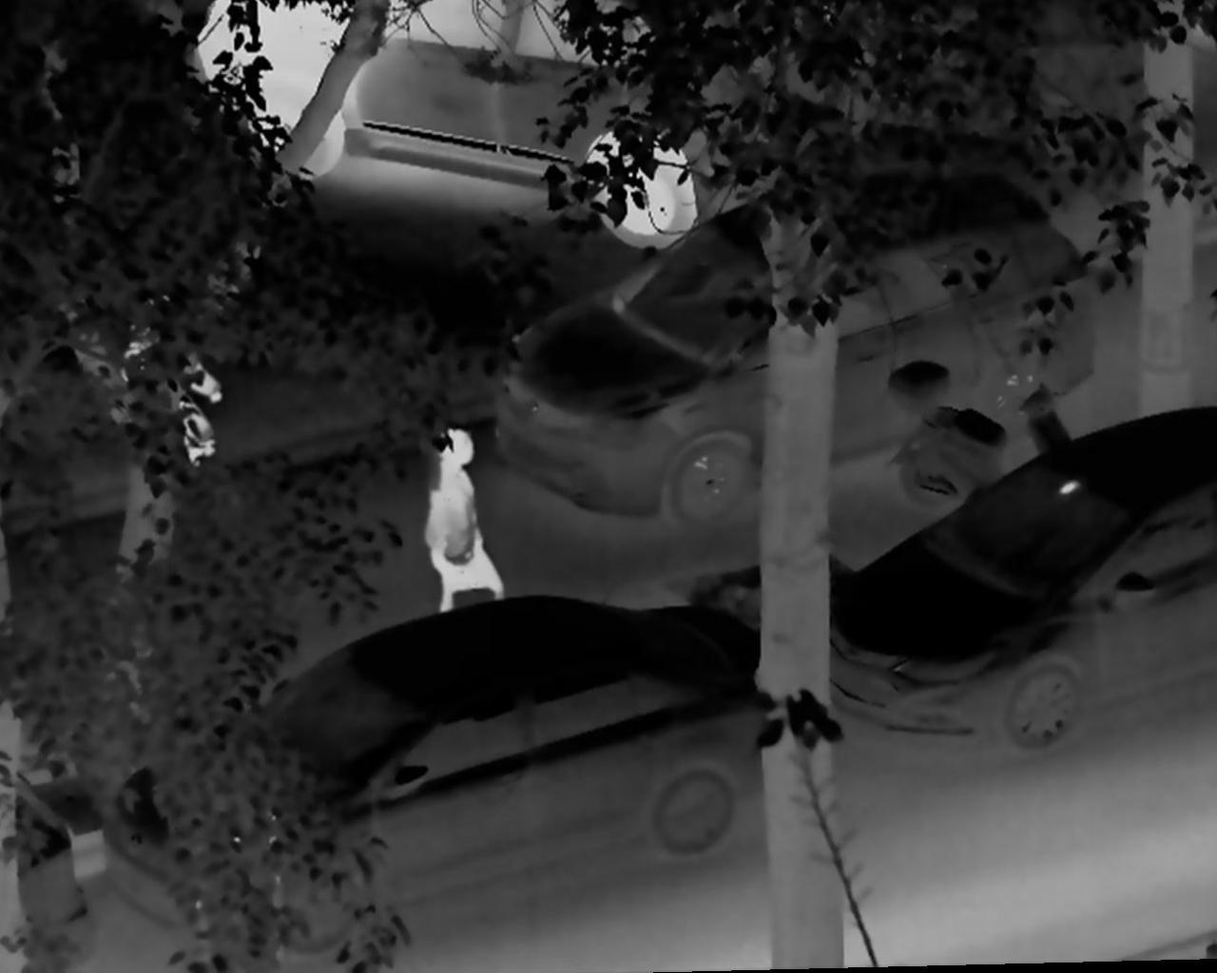person: (396, 422, 519, 618), (119, 316, 226, 479)
